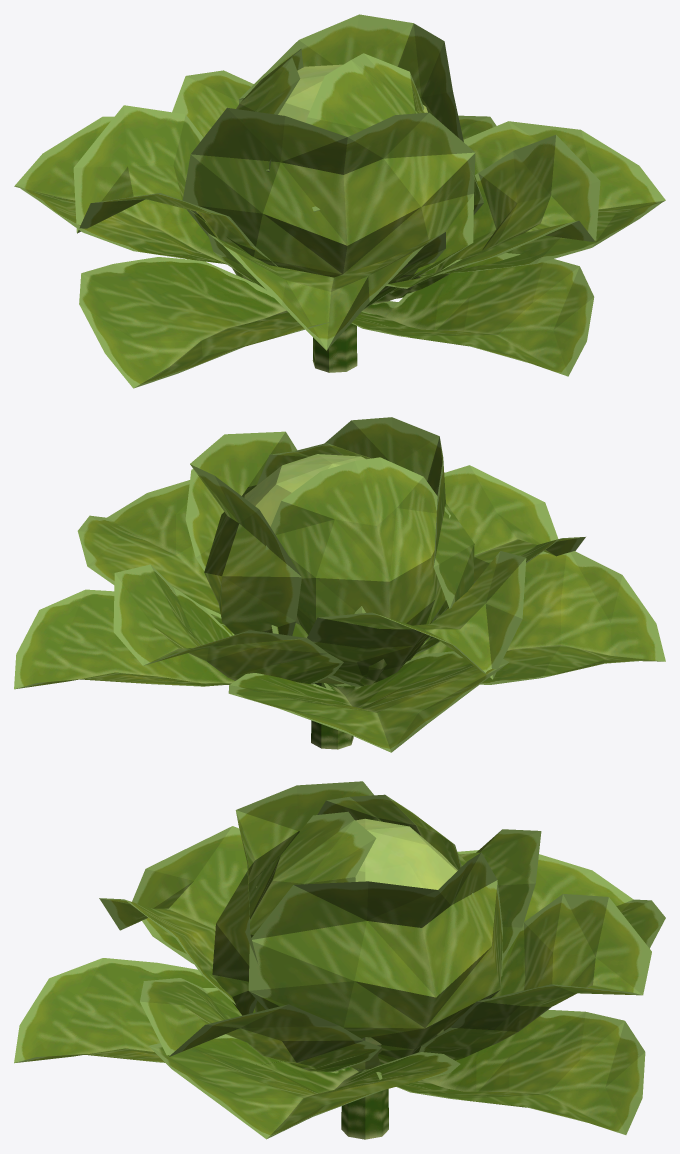
File: Cabbage_03.obj
3 renders of one model, top to bottom at view 1: azimuth 30°, elevation 25°; view 2: azimuth 150°, elevation 25°; view 3: azimuth 270°, elevation 25°, orthographic. The views are drawn at different scales.
Bounding box in the file's own units: 0.7301 × 0.3801 × 0.706.
1 material, 1 textured.
